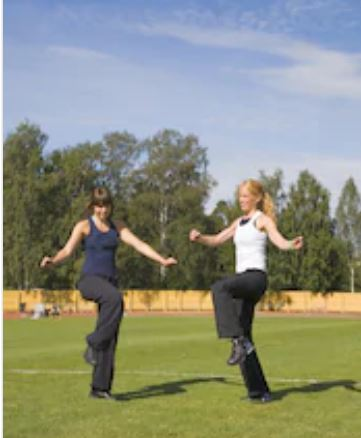Caution: (41, 177, 304, 402)
